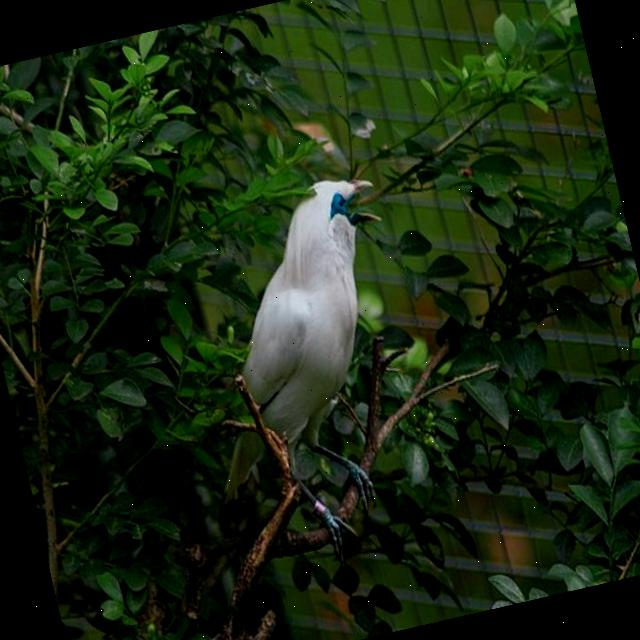Jalak Bali: (146, 136, 464, 579)
